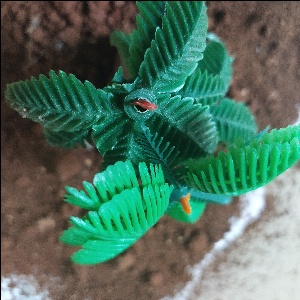plant: (11, 15, 300, 249)
